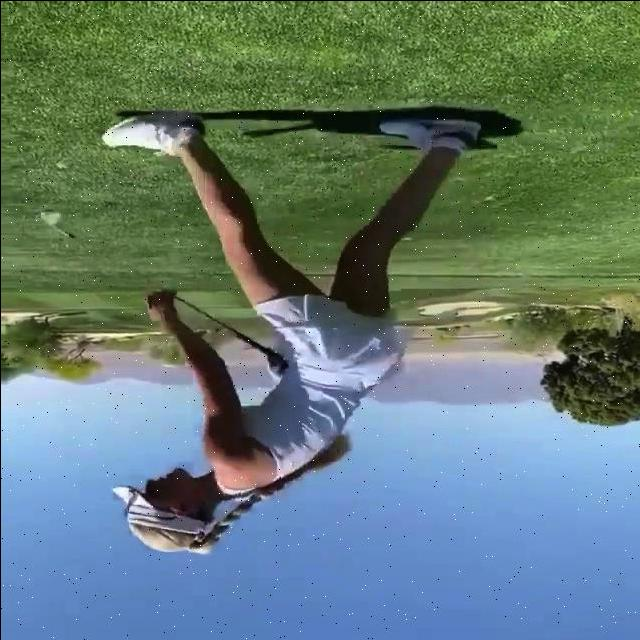ClubHandle: (40, 209, 289, 368)
ClubHead: (40, 209, 61, 223)
